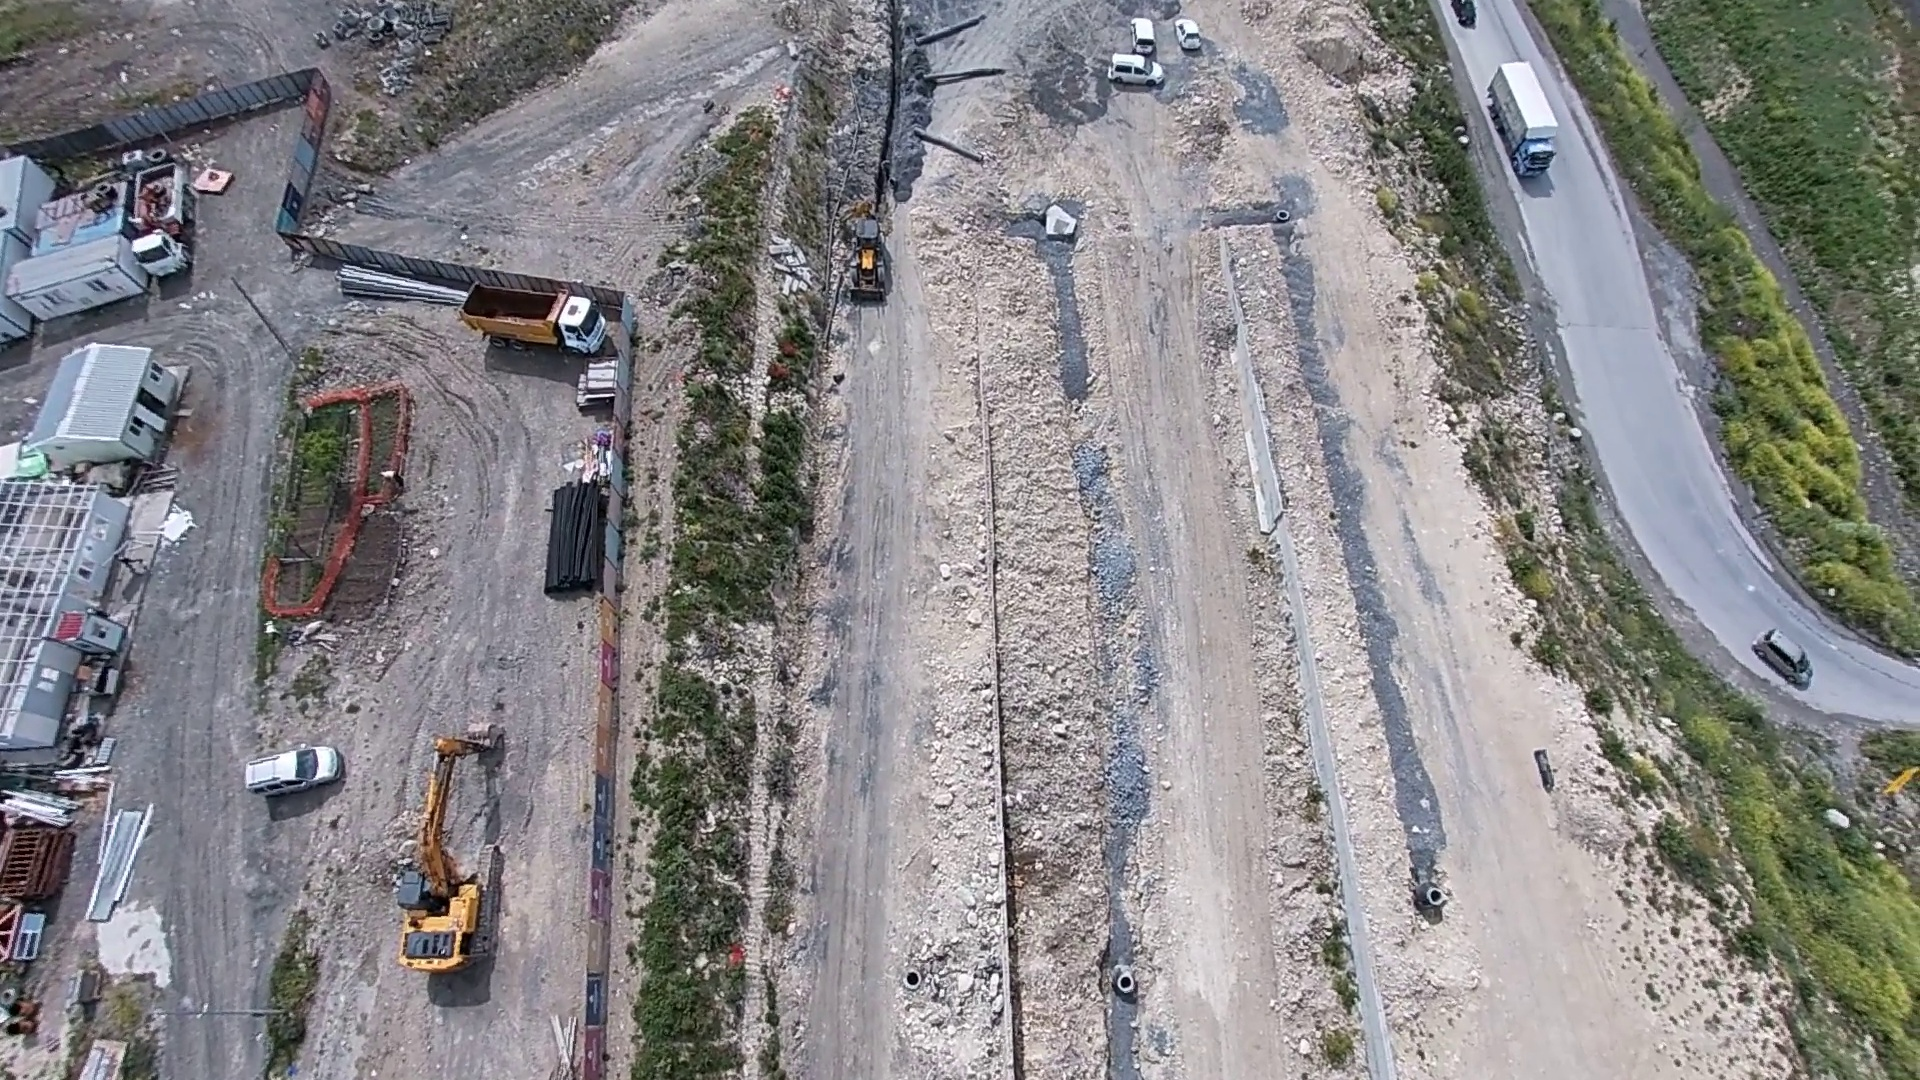arac: (390, 717, 512, 984), (447, 272, 608, 368), (1487, 44, 1569, 179), (123, 156, 193, 280), (237, 738, 347, 804), (1742, 618, 1818, 688), (839, 195, 890, 294), (1100, 54, 1170, 91), (1116, 13, 1160, 59), (1175, 15, 1211, 47)
